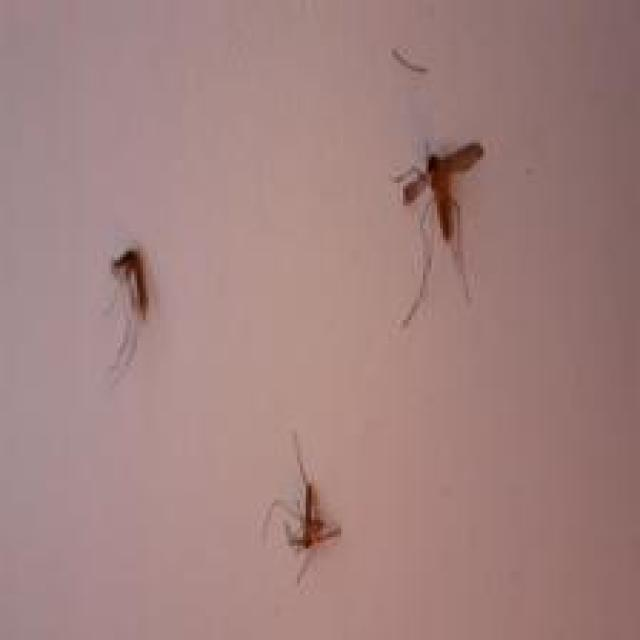Culex: (262, 430, 342, 584)
